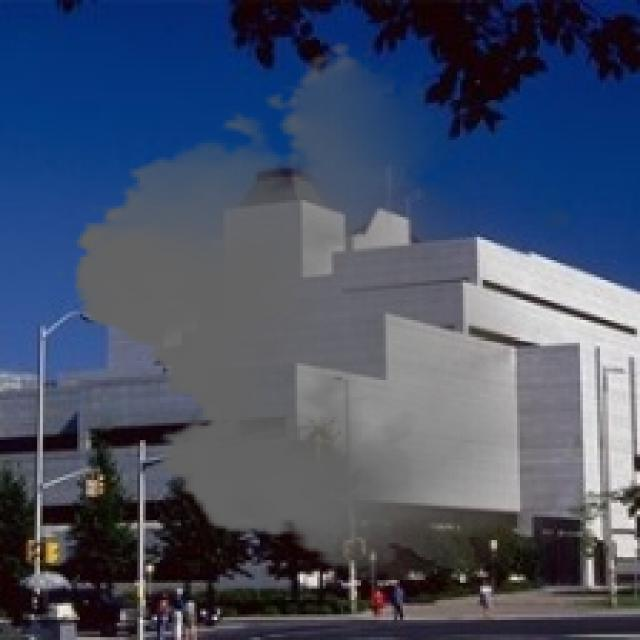smoke: (54, 40, 597, 580)
